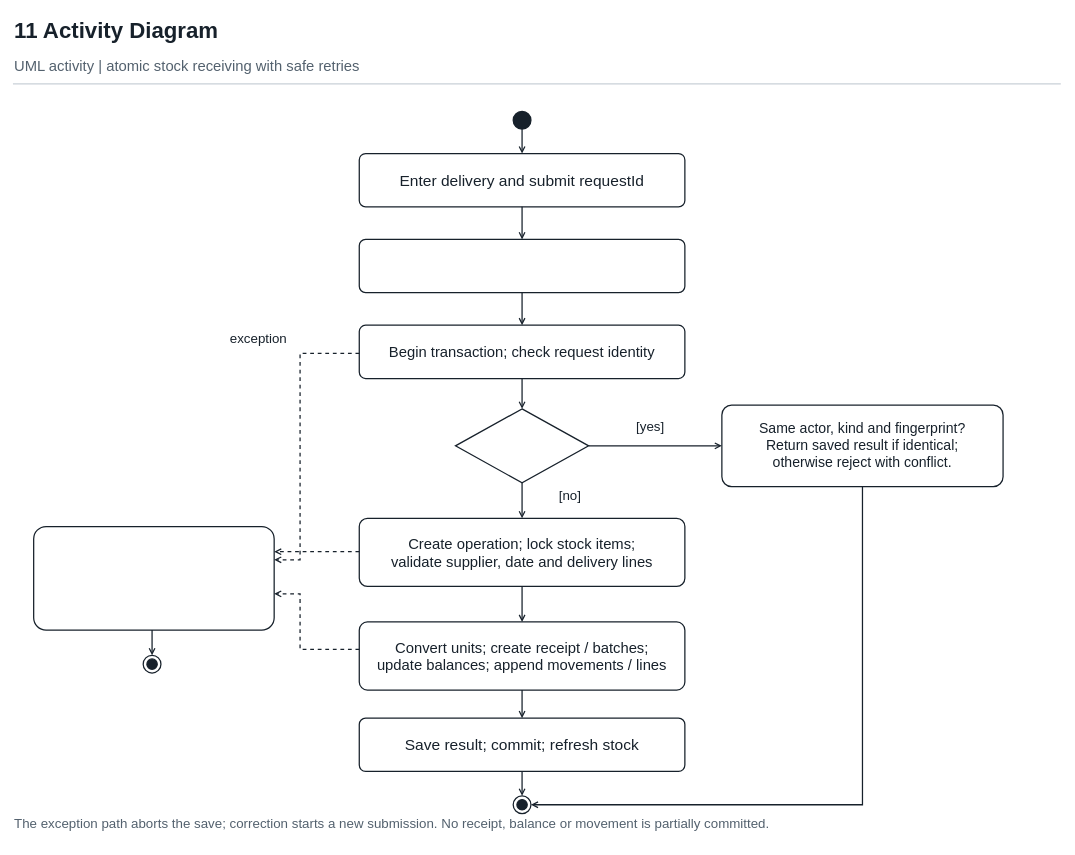
This 1075x855 diagram has some shape labels left out. Here are the shapes that lost their labels. From the top down, the centre of each, then its label:
[521,265]: Authenticate and authorize actor
[522,445]: Existing request?
[153,578]: Exception path: Roll back transaction Show validation / save error
